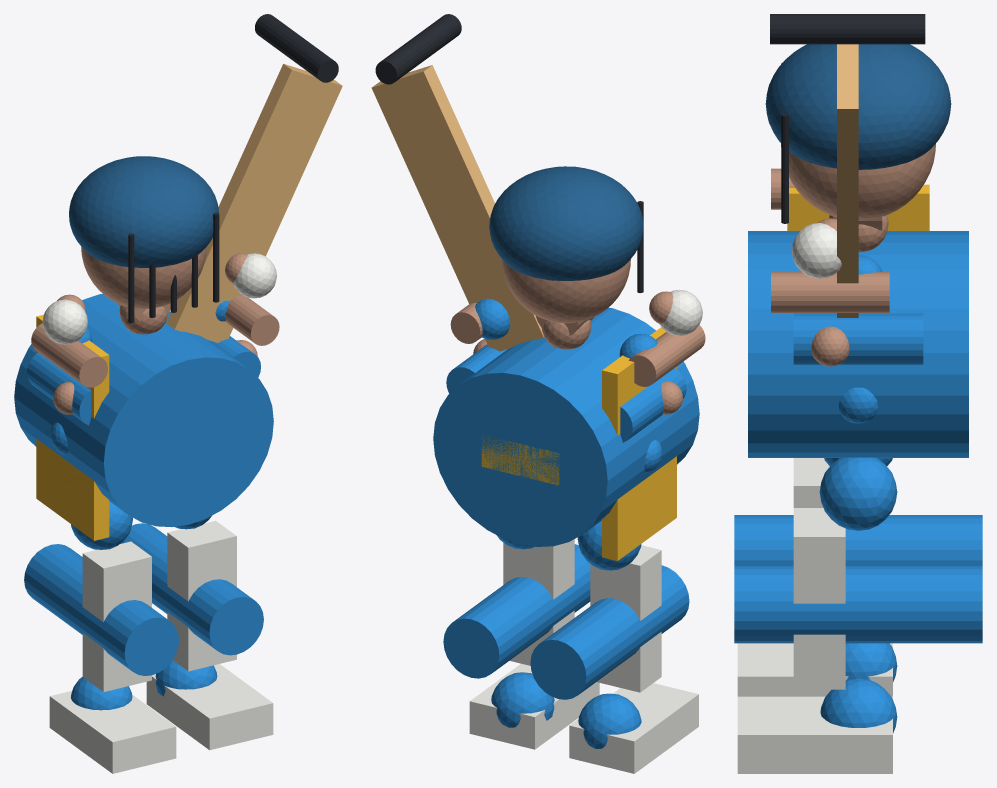
The model's file is batsman.glb.
The picture shows the model from 3 angles, left to right: view 1: azimuth 30°, elevation 25°; view 2: azimuth 150°, elevation 25°; view 3: azimuth 270°, elevation 25°; orthographic projection. The views are drawn at different scales.
Visible parts, largest first — view 1: Jersey, BatBlade, Helmet, LeftLeg_body, Shoe_-0.32, RightLeg_body, Shoe_0.32, Pad_-0.28, Pad_0.28, JerseyStripe, Head, BatHandle (+13 smaller); view 2: Jersey, BatBlade, Helmet, LeftLeg_body, RightLeg_body, JerseyStripe, Shoe_-0.32, Pad_-0.28, Head, Shoe_0.32, Pad_0.28, BatHandle (+14 smaller); view 3: Jersey, RightLeg_body, Helmet, Shoe_0.32, LeftLeg_body, Pad_0.28, UpperArmR_body, BatBlade, Head, BatHandle, RightLeg_top, ForearmR_body (+11 smaller).
Part boxes in pixels (x1,y1,x2,y2): Jersey: (14,293,273,526); BatBlade: (166,64,342,342); Helmet: (69,156,218,267); LeftLeg_body: (24,544,178,675); Shoe_-0.32: (49,691,176,773); RightLeg_body: (120,523,263,655); Shoe_0.32: (146,664,273,750); Pad_-0.28: (82,541,151,691); Pad_0.28: (167,520,236,671); JerseyStripe: (36,314,109,540); Head: (81,246,206,308); BatHandle: (255,14,338,82); Jersey: (433,307,699,546); BatBlade: (371,65,544,351); Helmet: (489,166,643,280); LeftLeg_body: (530,565,689,699); RightLeg_body: (443,544,590,678); JerseyStripe: (602,327,676,560); Shoe_-0.32: (569,683,698,773); Pad_-0.28: (590,545,661,692); Head: (502,259,630,323); Shoe_0.32: (469,663,599,749); Pad_0.28: (503,539,574,665); BatHandle: (375,14,461,84); Jersey: (748,231,968,457); RightLeg_body: (734,566,982,643); Helmet: (765,44,951,169); Shoe_0.32: (737,696,892,773); LeftLeg_body: (734,515,982,565); Pad_0.28: (793,508,845,689); UpperArmR_body: (793,313,923,364); BatBlade: (837,44,858,317); Head: (781,143,935,220); BatHandle: (770,14,925,44); RightLeg_top: (819,457,897,530); ForearmR_body: (771,272,889,312).
Bounding box in the file's own units: 2.01 × 4.09 × 1.15.
